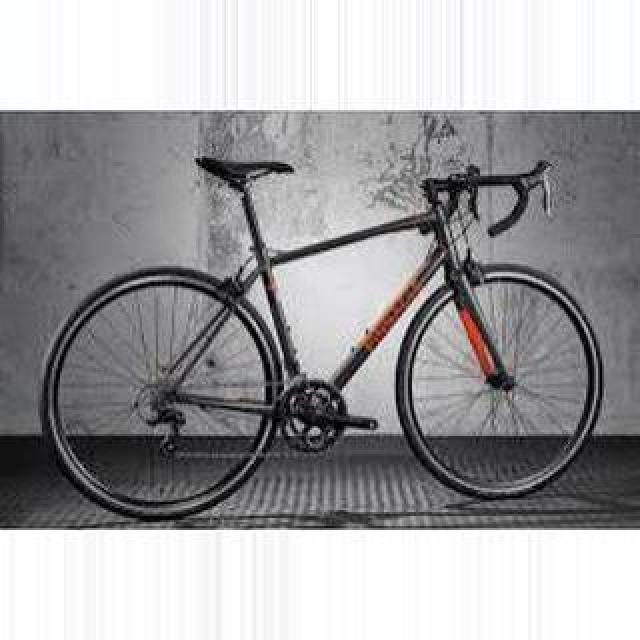Person: (39, 155, 605, 523)
